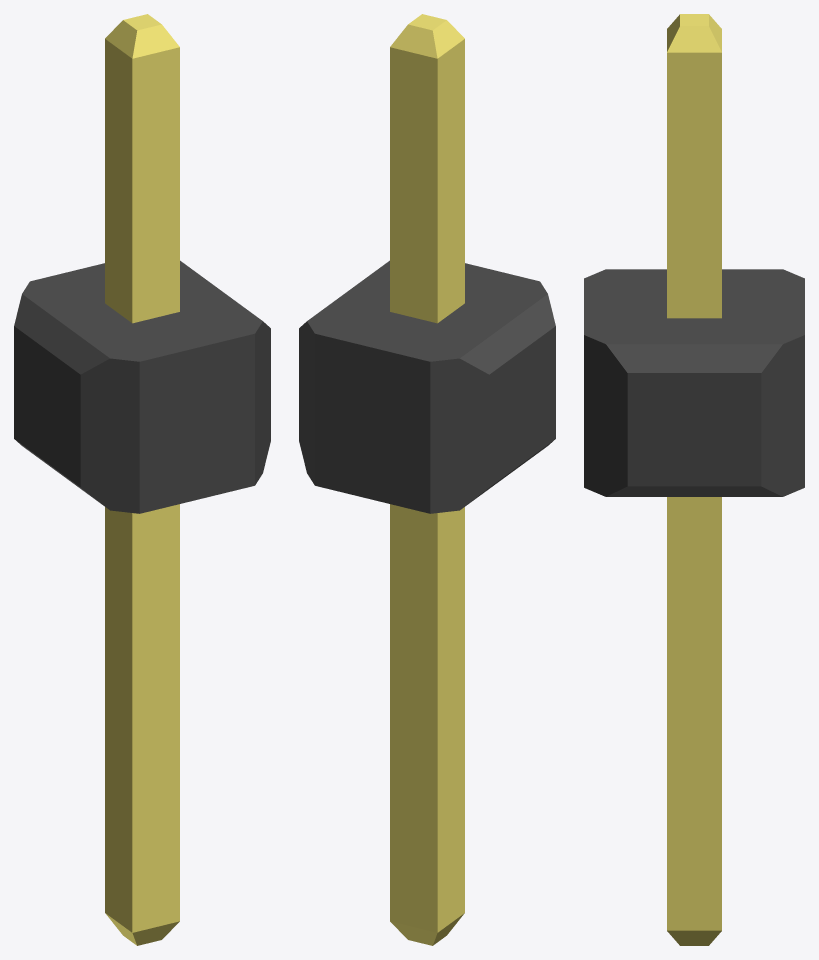
File: 1xPin-Header.obj
The picture shows the model from 3 angles, left to right: view 1: azimuth 30°, elevation 25°; view 2: azimuth 150°, elevation 25°; view 3: azimuth 270°, elevation 25°; orthographic projection.
Visible parts, largest first — view 1: 1xPin; view 2: 1xPin; view 3: 1xPin.
Part boxes in pixels (x1,y1,x2,y2): 1xPin: (14, 14, 270, 945); 1xPin: (299, 14, 555, 945); 1xPin: (584, 14, 804, 945).
Bounding box in the file's own units: 2.54 × 11.68 × 2.54.
